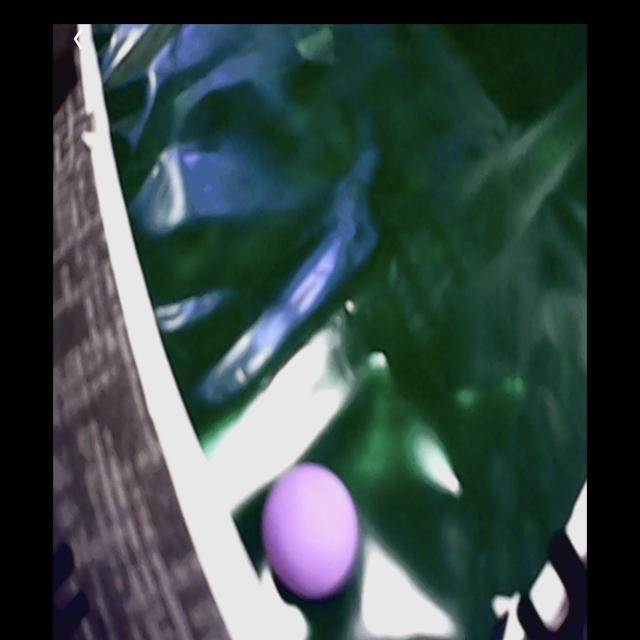ball: (266, 463, 358, 596)
